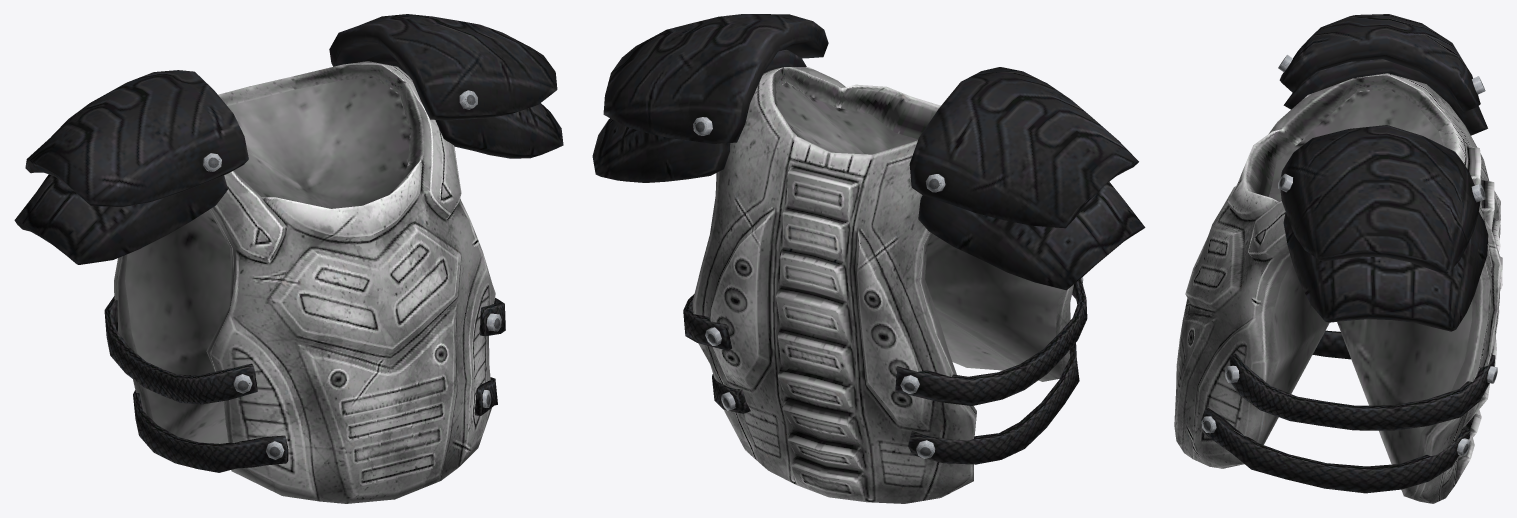
The model's file is SurvivorMale_Armor_Badass_Basic_LOD0.glb.
The picture shows the model from 3 angles, left to right: view 1: azimuth 30°, elevation 25°; view 2: azimuth 150°, elevation 25°; view 3: azimuth 270°, elevation 25°; orthographic projection. The views are drawn at different scales.
Visible parts, largest first — view 1: Hoodie; view 2: Hoodie; view 3: Hoodie.
Boxes of the visible parts, x1,y1,x2,y2 form: Hoodie: [14, 14, 563, 503]; Hoodie: [592, 14, 1145, 503]; Hoodie: [1174, 14, 1502, 503].
Bounding box in the file's own units: 0.6234 × 0.4835 × 0.3656.
1 material, 1 textured.
